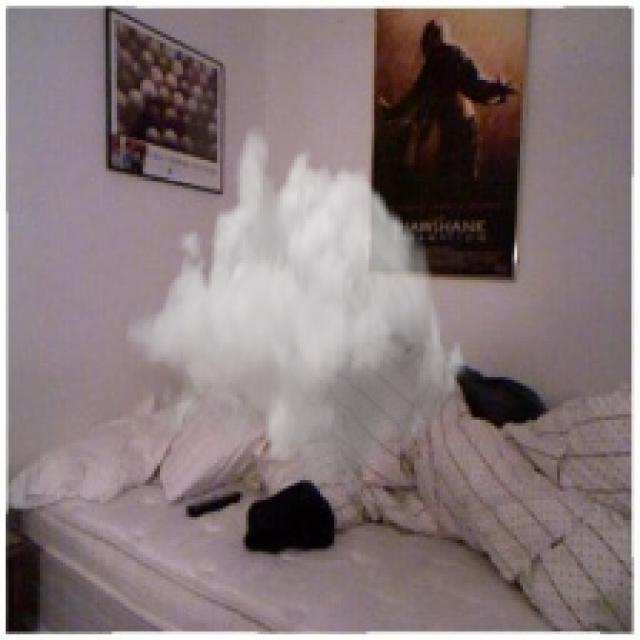Smoke: (122, 120, 468, 509)
